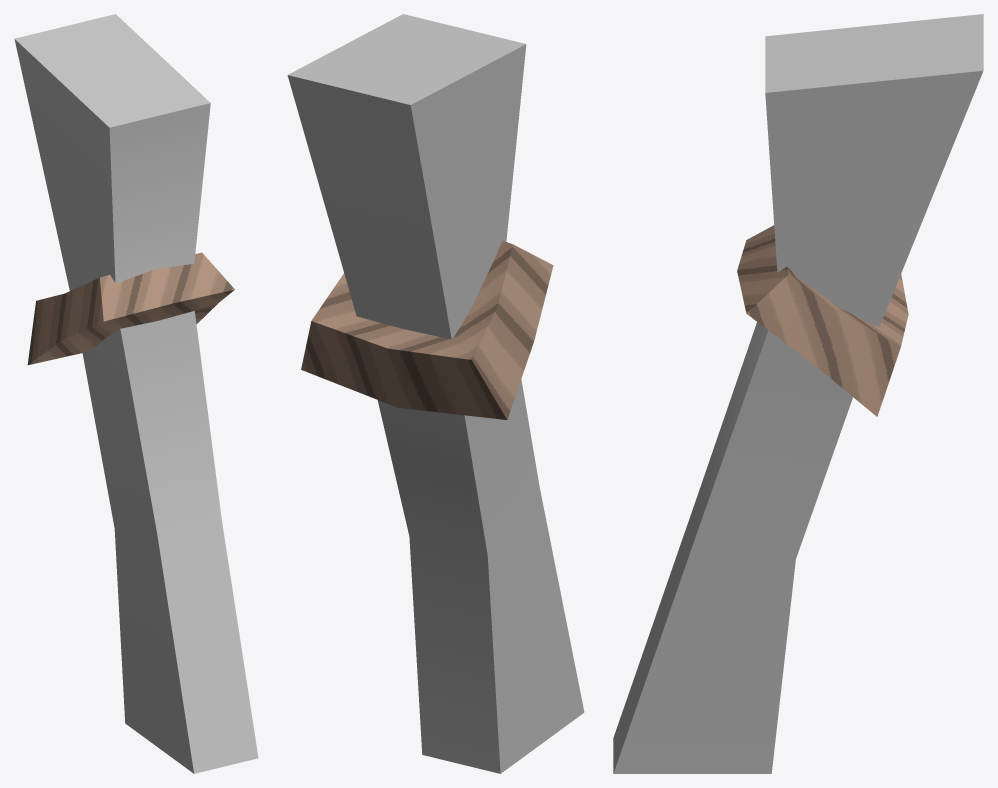
File: Wood8.fbx
3 renders of one model, left to right at view 1: azimuth 30°, elevation 25°; view 2: azimuth 150°, elevation 25°; view 3: azimuth 270°, elevation 25°, orthographic. The views are drawn at different scales.
Visible parts, largest first — view 1: Wood8; view 2: Wood8; view 3: Wood8.
Boxes of the visible parts, x1,y1,x2,y2 form: Wood8: (14,14,258,773); Wood8: (287,14,584,773); Wood8: (613,14,983,773).
Bounding box in the file's own units: 18.54 × 64.95 × 30.54.
